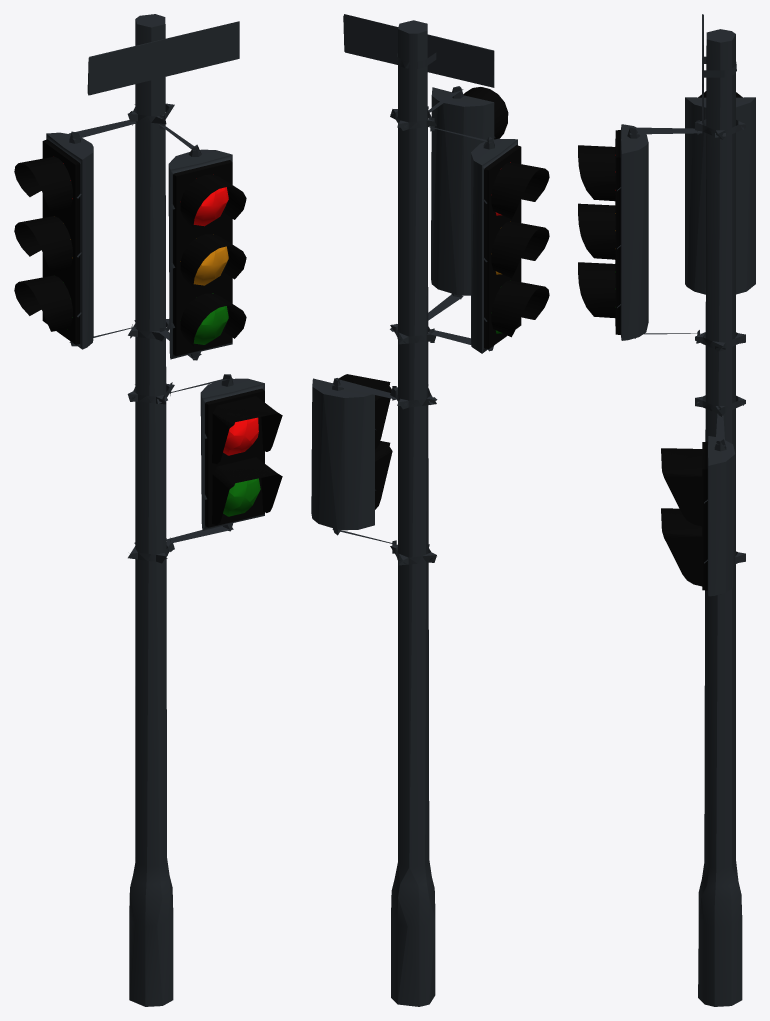
The model's file is traffic_light_7.fbx.
3 views of the same model, side by side, from view 1: azimuth 30°, elevation 25°; view 2: azimuth 150°, elevation 25°; view 3: azimuth 270°, elevation 25° (orthographic).
Visible parts, largest first — view 1: traffic_ light_7; view 2: traffic_ light_7; view 3: traffic_ light_7.
Part boxes in pixels (box(x1,y1,x2,y2)): traffic_ light_7: box(14, 14, 282, 1006); traffic_ light_7: box(311, 14, 549, 1006); traffic_ light_7: box(578, 14, 755, 1006).
Size of the model in its own units: 99.53 by 399 by 66.94.
